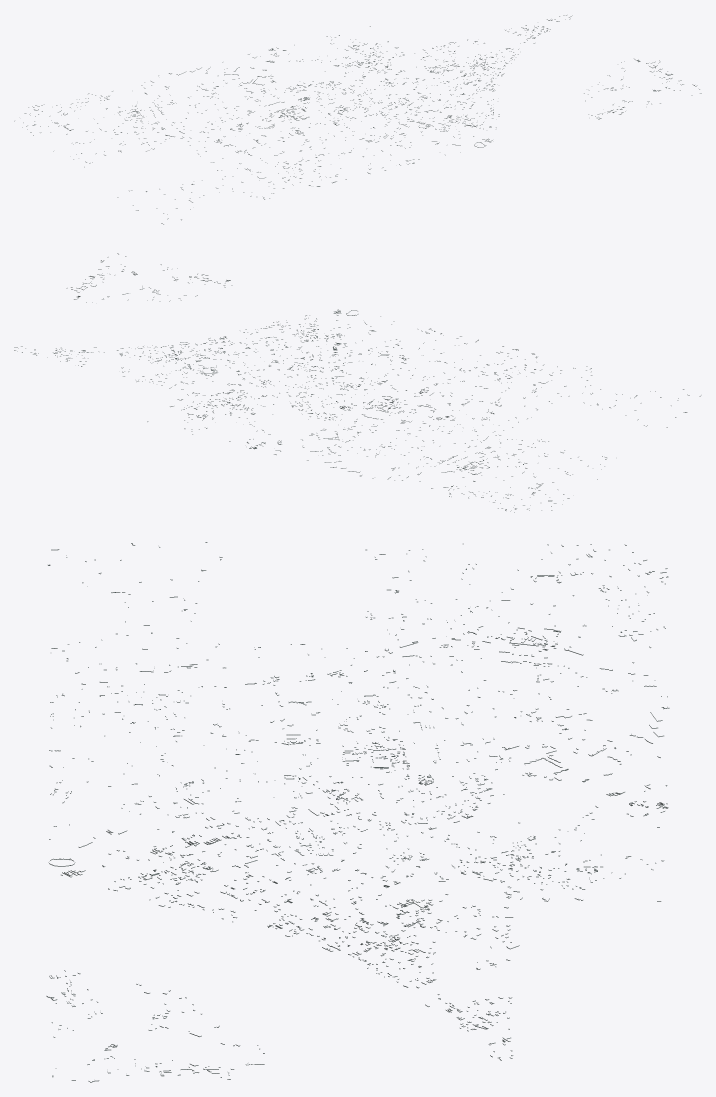
Rendered from NoLod_92.glb.
3 views of the same model, one above another, from view 1: azimuth 30°, elevation 25°; view 2: azimuth 150°, elevation 25°; view 3: azimuth 270°, elevation 25° (orthographic). The views are drawn at different scales.
Visible parts, largest first — view 1: rtc; view 2: rtc; view 3: rtc.
Boxes of the visible parts, x1=… form: rtc: x1=14, y1=15, x2=701, y2=224; rtc: x1=14, y1=253, x2=701, y2=512; rtc: x1=46, y1=542, x2=669, y2=1082.
Size of the model in its own units: 10089 by 45.09 by 4936.
1 material, 1 textured.
